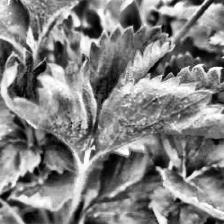Powdery Mildew Leaf: (93, 63, 224, 155), (0, 48, 97, 156), (86, 23, 176, 117)
